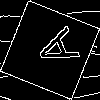A: (25, 25, 80, 75)
